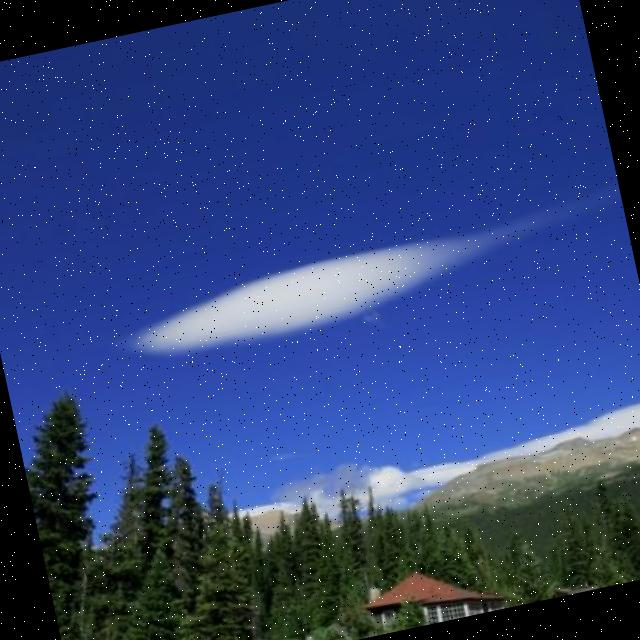Ac: (106, 185, 572, 386)
